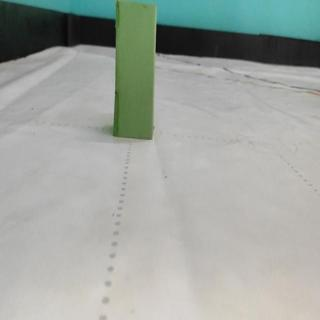greenbox: (115, 0, 157, 140)
